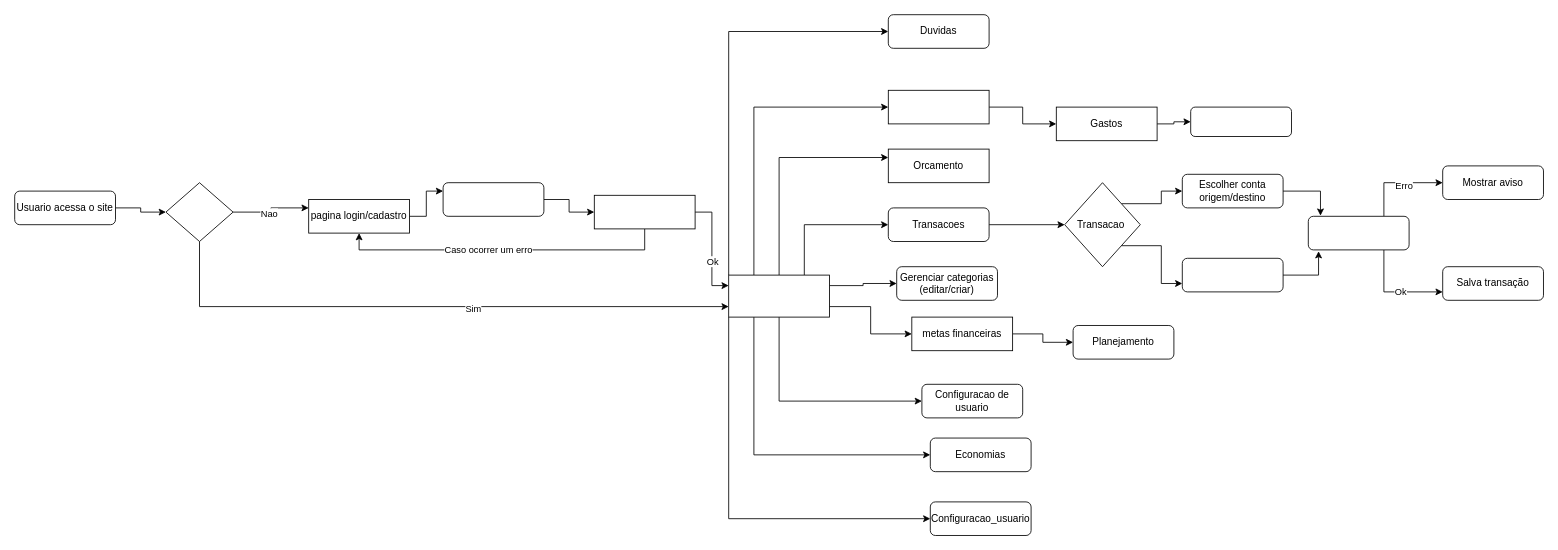
The diagram is 1558 pixels wide and 550 high, and some of its shapes have lost their labels. The shapes that lost their labels are listed below. From the top down, each one's centre as x and y in pixels, then its label:
the point at 938,106: Selecionar a sua conta
the point at 1241,121: Relatorio
the point at 199,212: Esta logado?
the point at 493,199: Realizar login/cadastro
the point at 644,211: Sistema verifica credencias
the point at 1358,232: Sistema validos campos/saldo
the point at 1232,274: Escolher Forma de pagamento
the point at 779,295: Tela principal
